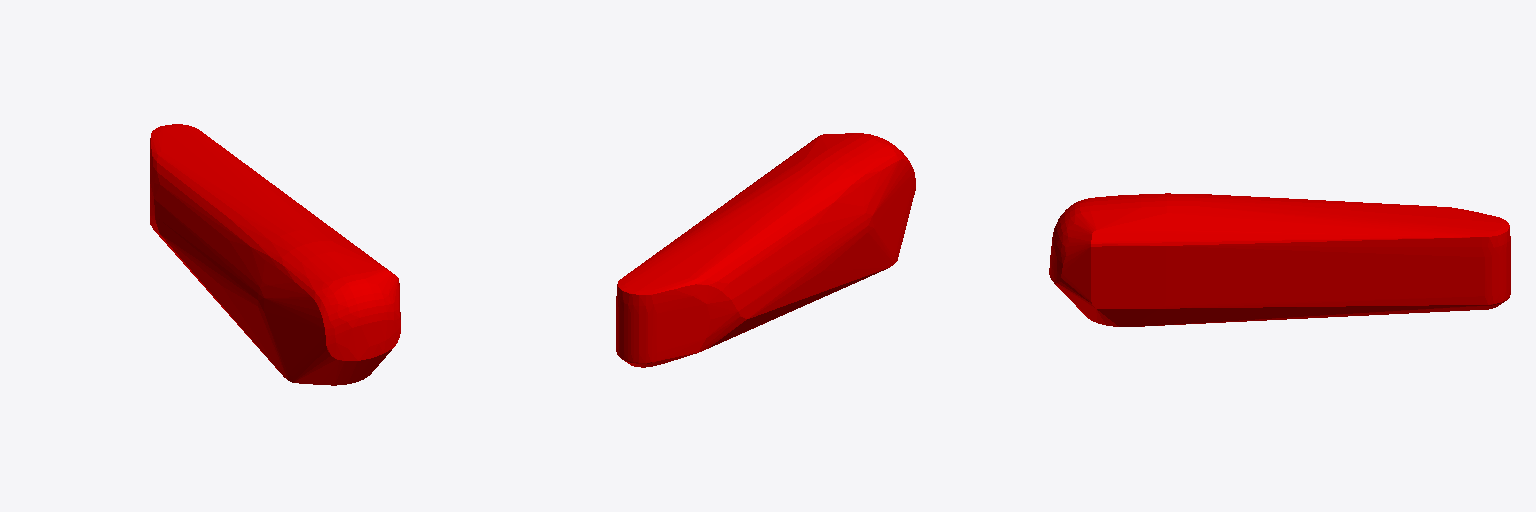
Rendered from l_uleg_hull.obj.
3 renders of one model, left to right at view 1: azimuth 30°, elevation 25°; view 2: azimuth 150°, elevation 25°; view 3: azimuth 270°, elevation 25°, orthographic.
Visible parts, largest first — view 1: l_upper_leg; view 2: l_upper_leg; view 3: l_upper_leg.
Part boxes in pixels (left/top/right/bottom): l_upper_leg: left=150, top=124, right=400, bottom=385; l_upper_leg: left=616, top=133, right=915, bottom=367; l_upper_leg: left=1049, top=193, right=1510, bottom=326.
Bounding box in the file's own units: 0.101 × 0.108 × 0.4112.